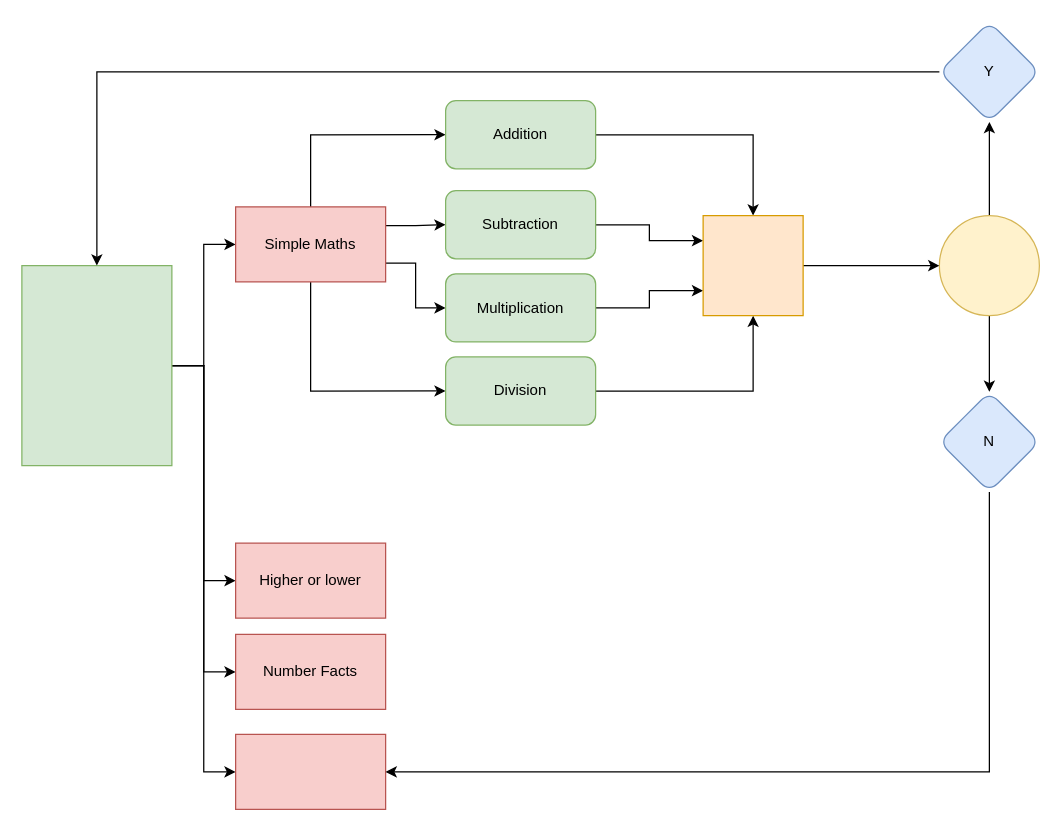
Image size: 1061x831. Some labels were removed from this diagram. Here are the shapes that lost their labels. From the top down, the centre of each, then its label:
point 752,265: 5 Maths Question
point 988,265: Play Again? Y / N
point 96,365: Main
point 310,771: Exit Terminal
